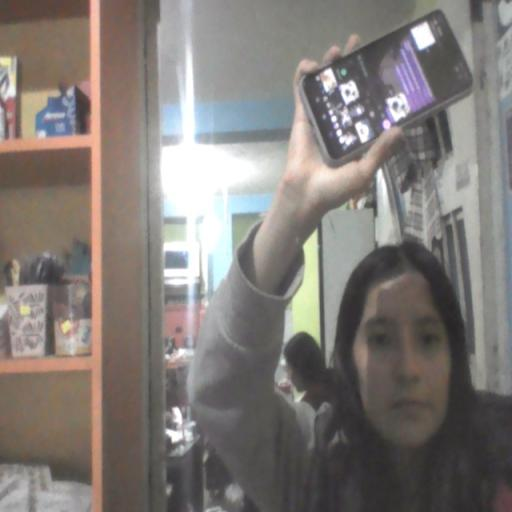phone: (297, 8, 478, 163)
